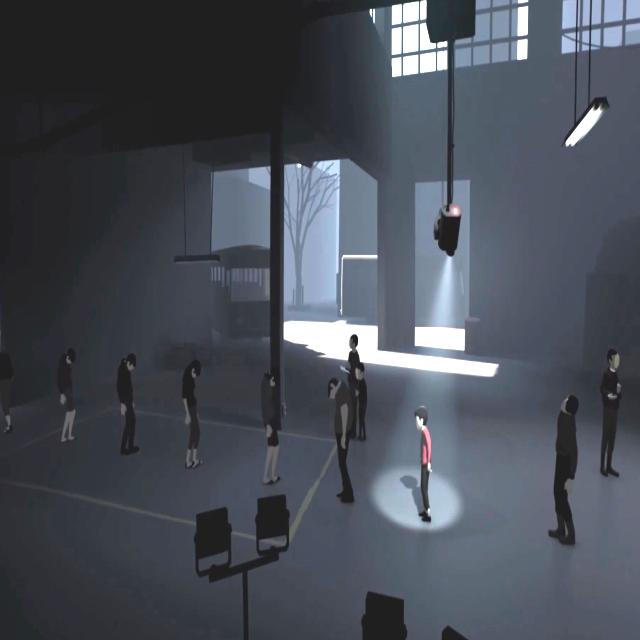boy: (416, 406, 433, 524)
human: (600, 348, 622, 478), (346, 333, 364, 422), (354, 364, 368, 441)
zombie: (550, 394, 580, 545), (327, 377, 357, 505), (262, 370, 284, 484), (116, 355, 140, 454), (182, 362, 202, 471), (59, 351, 76, 442), (0, 353, 15, 434)
